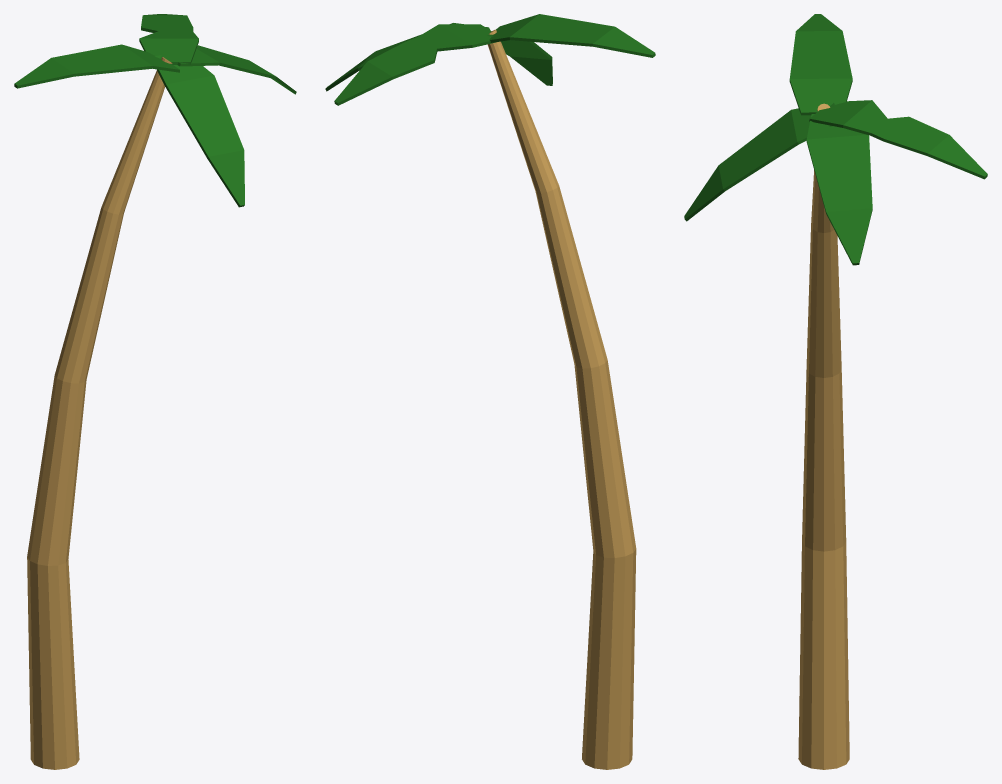
Rendered from Palm2.fbx.
The picture shows the model from 3 angles, left to right: view 1: azimuth 30°, elevation 25°; view 2: azimuth 150°, elevation 25°; view 3: azimuth 270°, elevation 25°; orthographic projection. The views are drawn at different scales.
Parts seen in each view (by area): view 1: Cylinder.006; view 2: Cylinder.006; view 3: Cylinder.006.
Boxes of the visible parts, x1,y1,x2,y2 form: Cylinder.006: (14,14,296,769); Cylinder.006: (325,14,655,769); Cylinder.006: (684,14,987,769).
Bounding box in the file's own units: 267 × 224 × 596.
